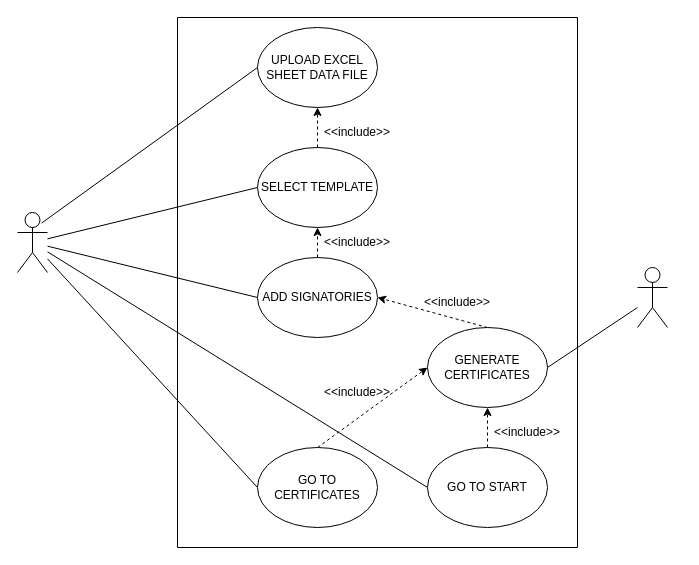
Image size: 699x565. Some labels were removed from this diagram. Here are the shapes that lost their labels. From the top down, the box of each, then its label:
(16, 212, 48, 272): User
(636, 266, 668, 328): Application System
